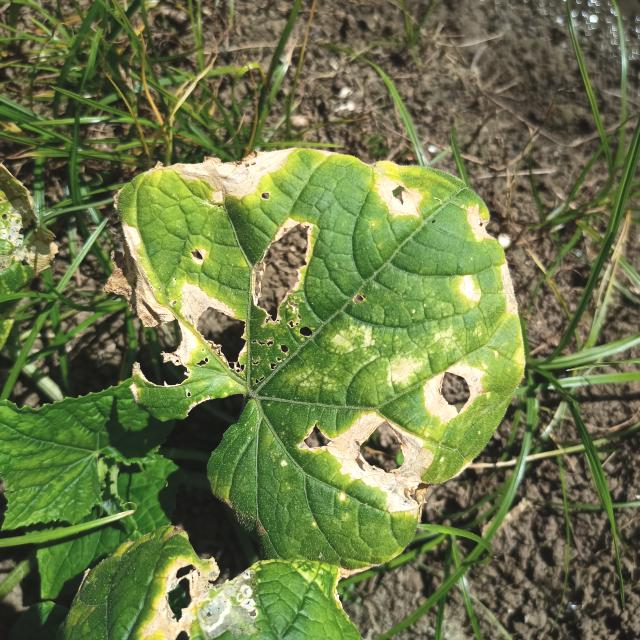disease_cucumber: (125, 148, 514, 526), (100, 558, 249, 640)
